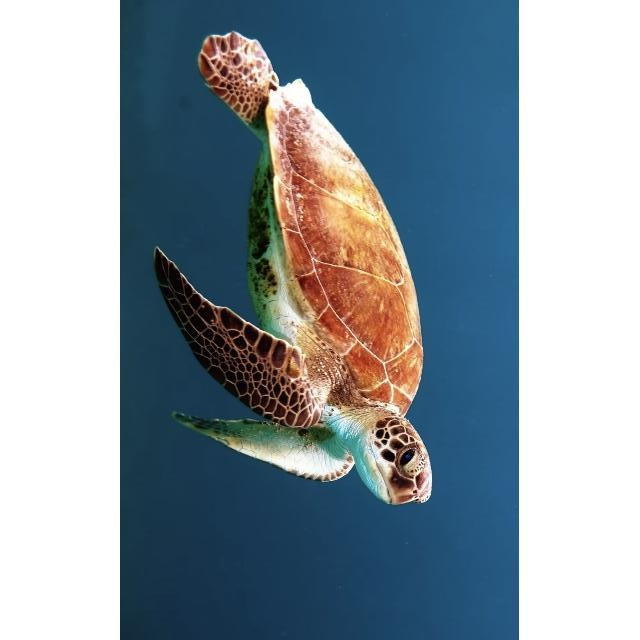turtle: (151, 29, 435, 507)
